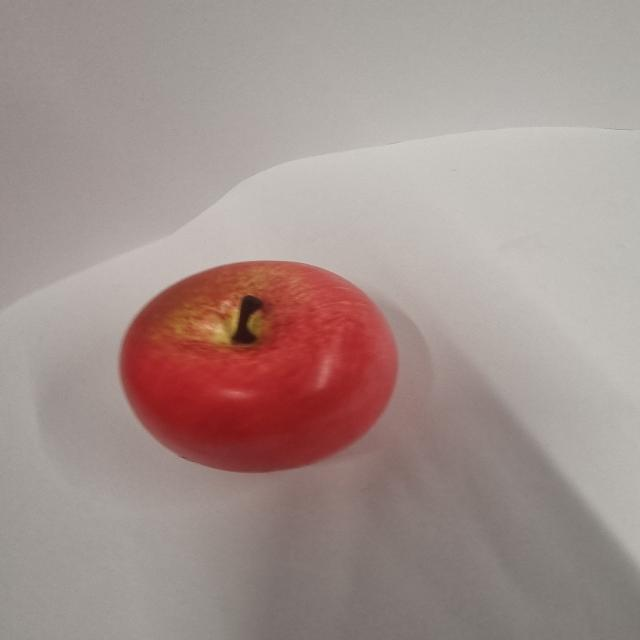apple: (120, 260, 398, 470)
